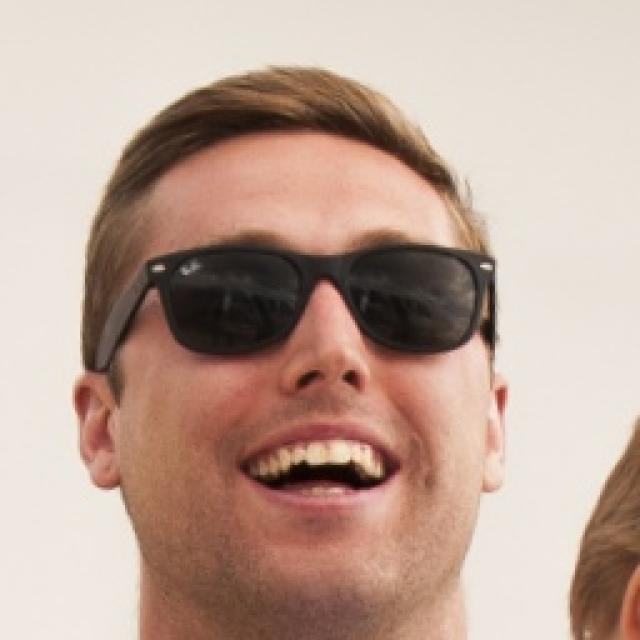glasses: (96, 242, 507, 366)
